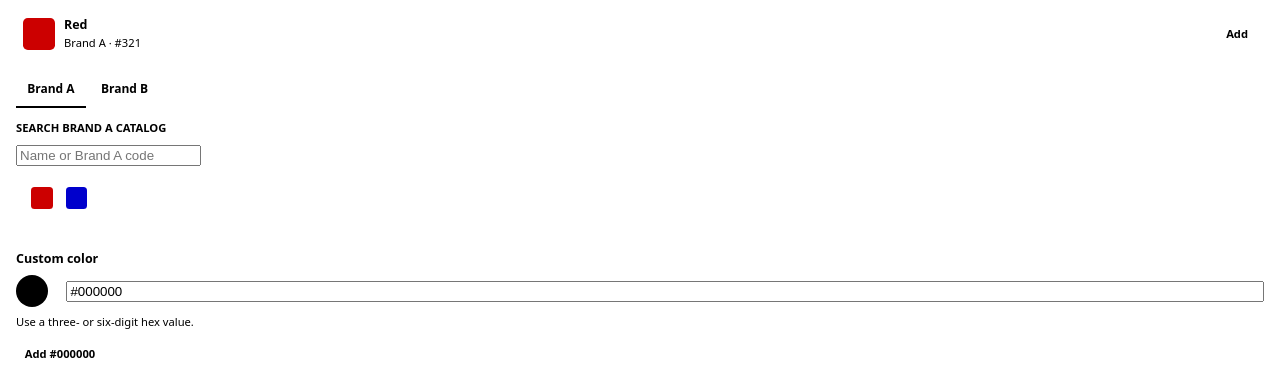
ThreadColorPicker › filters the grid by search and keeps the selection valid
Type "797" into the field labelled "Search Brand A catalog".
click(108, 156); type("797")  # box [16,145,201,166]
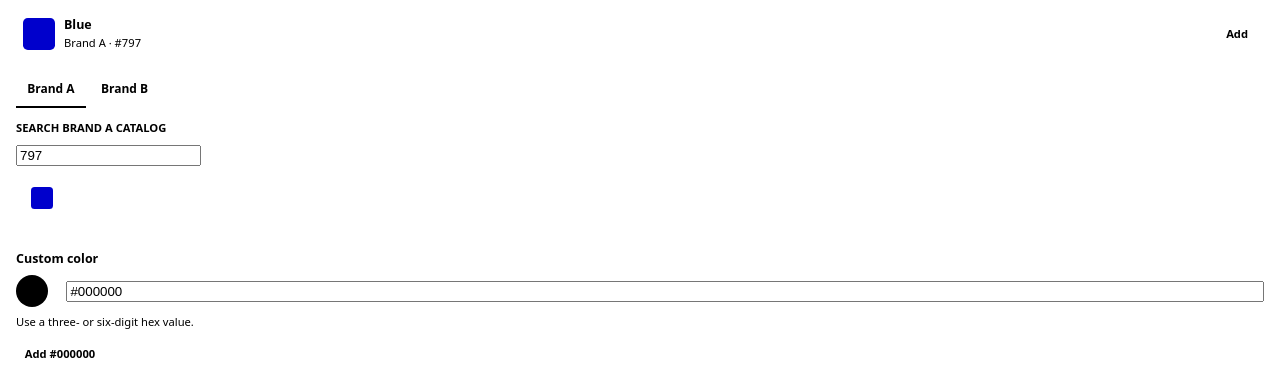
Expected: the text "Blue" is shown, [64,16,92,33]
Replace the text in the field labelled "Search Brand A catalog" with "nothing" at (108, 156), box [16,145,201,166]
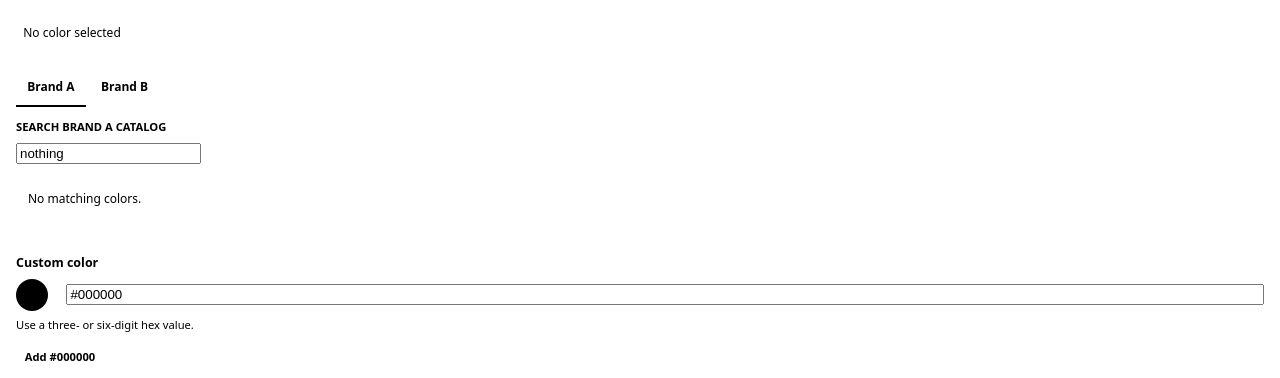
Expected: the text "No matching colors." is shown, [28,190,141,207]
Expected: the text "No color selected" is shown, [23,24,121,42]
